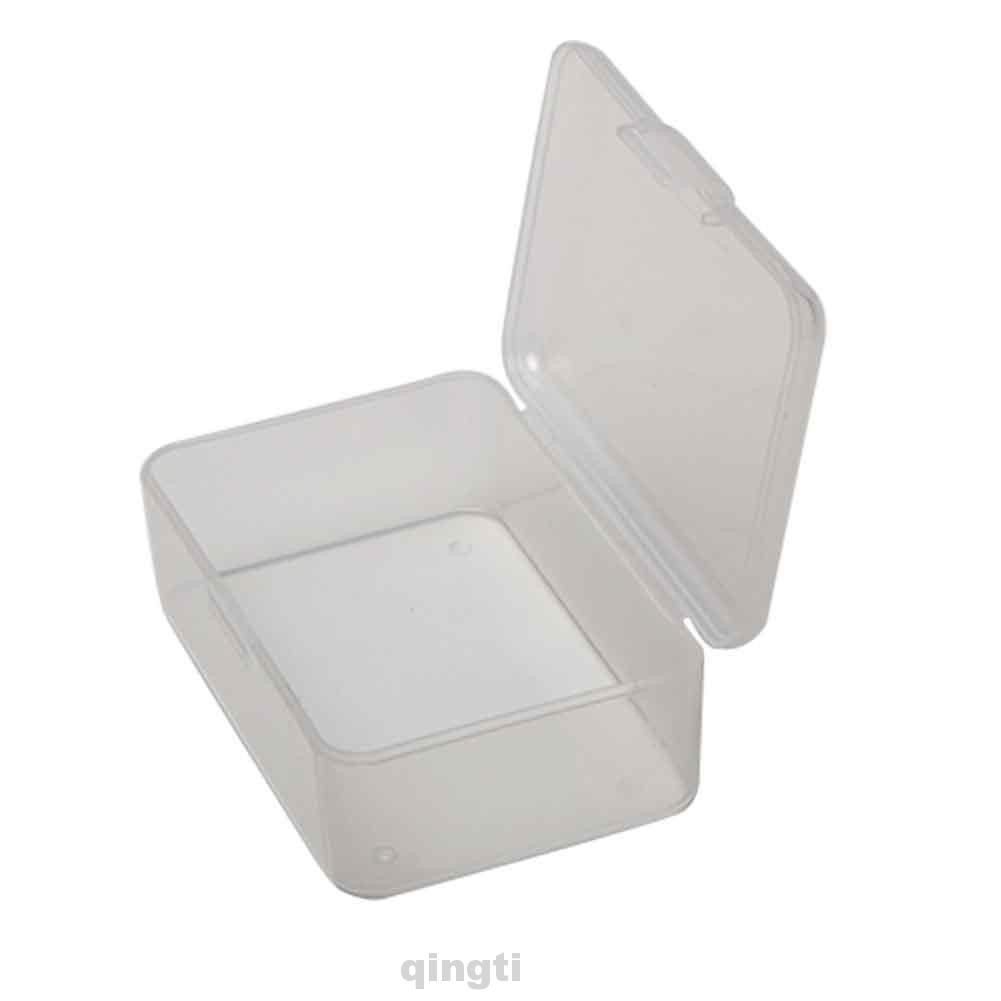PlasticBox: (131, 36, 831, 903)
